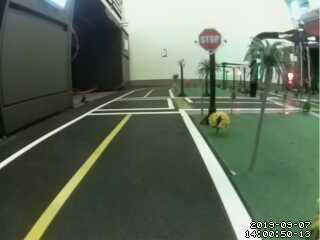Stop_Sign: (193, 25, 225, 55)
